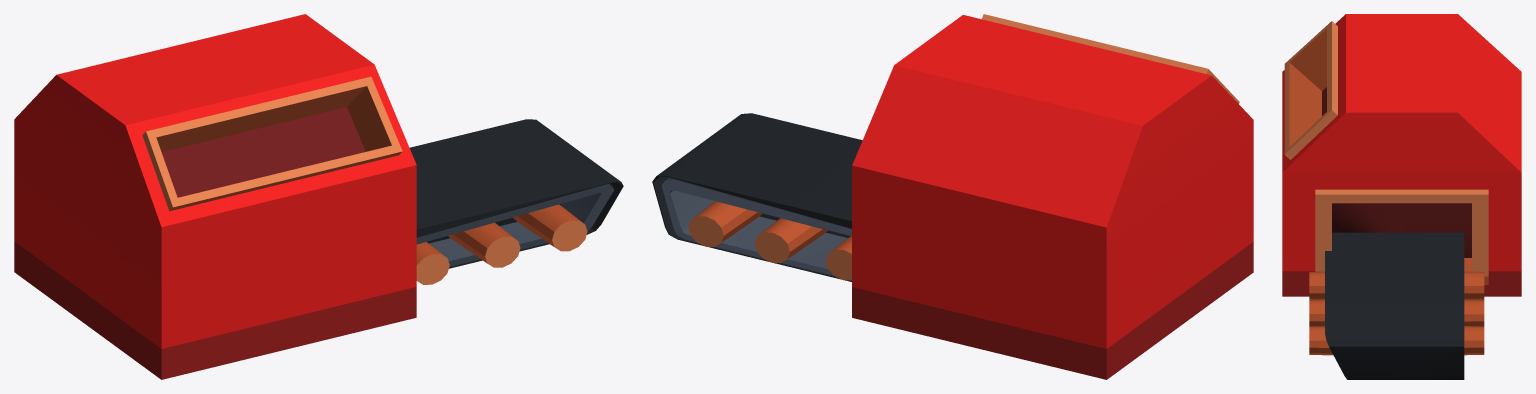
File: Reciclador_VERMELHO.fbx
3 views of the same model, side by side, from view 1: azimuth 30°, elevation 25°; view 2: azimuth 150°, elevation 25°; view 3: azimuth 270°, elevation 25° (orthographic). The views are drawn at different scales.
Visible parts, largest first — view 1: Cube.005; view 2: Cube.005; view 3: Cube.005.
Boxes of the visible parts, x1=… form: Cube.005: x1=14, y1=14, x2=623, y2=379; Cube.005: x1=652, y1=14, x2=1253, y2=379; Cube.005: x1=1282, y1=14, x2=1521, y2=379.
Size of the model in its own units: 722 by 317 by 375.
Materials: 1 (1 with a texture image).
